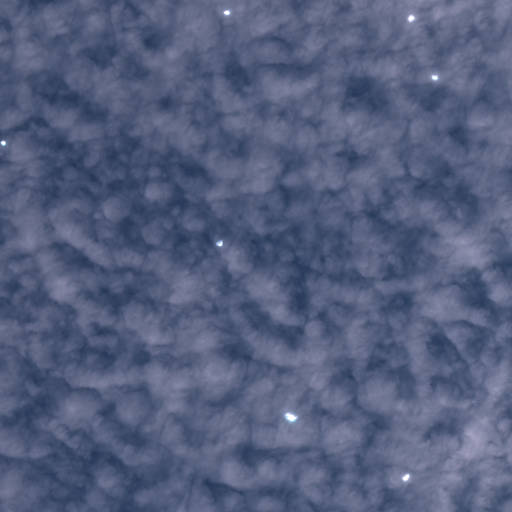Iceberg: (285, 413, 297, 421), (407, 14, 414, 22), (402, 473, 409, 481), (223, 10, 230, 15), (215, 240, 222, 245), (0, 140, 5, 145), (432, 75, 437, 79)
